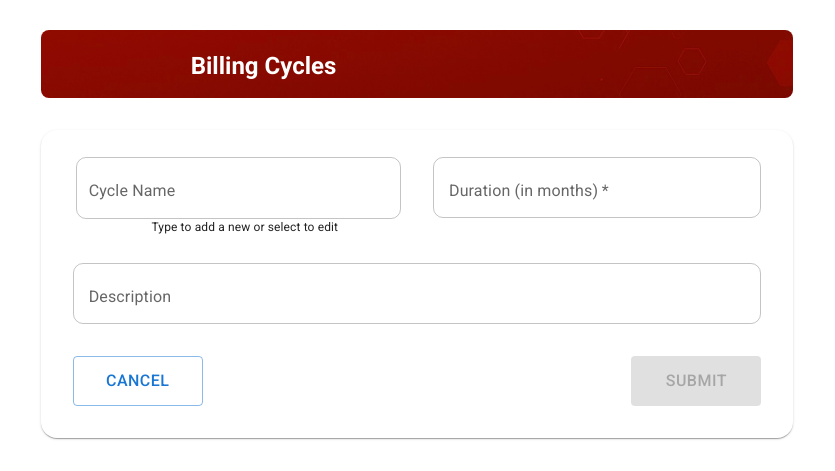
Test: BillingCyclesPage › renders billing cycle data in the form when a billing cycle is selected
The image size is (835, 471).
Type "Monthly" into the dropdown. click: (223, 200)
box: 85,181 -> 362,219
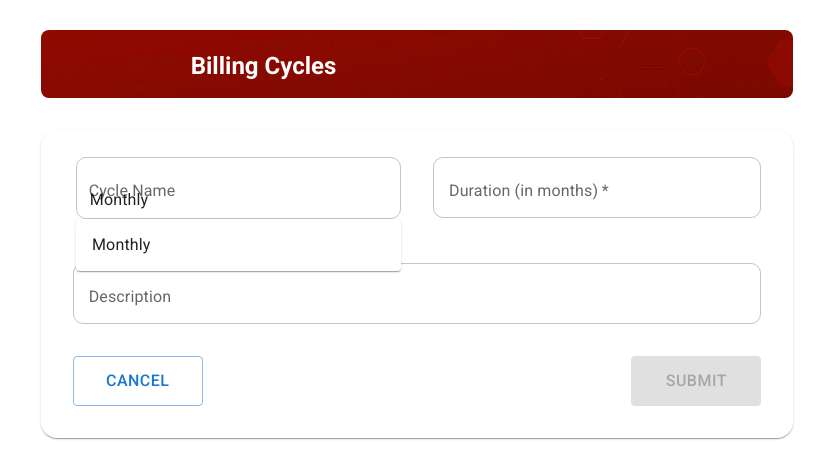
Click the option "Monthly". click: (121, 244)
box: 92,235 -> 150,254
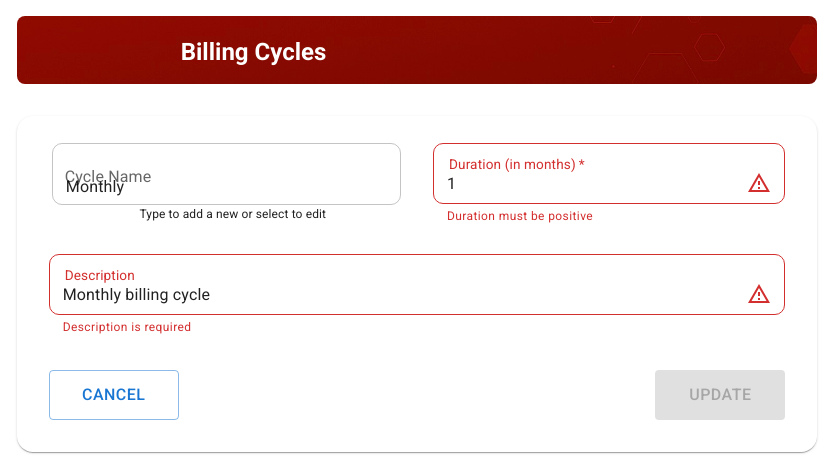
expect the field showing "1" is shown: met, box 433,155 -> 747,211
expect the field showing "Monthly billing cycle" is shown: met, box 49,266 -> 747,322
